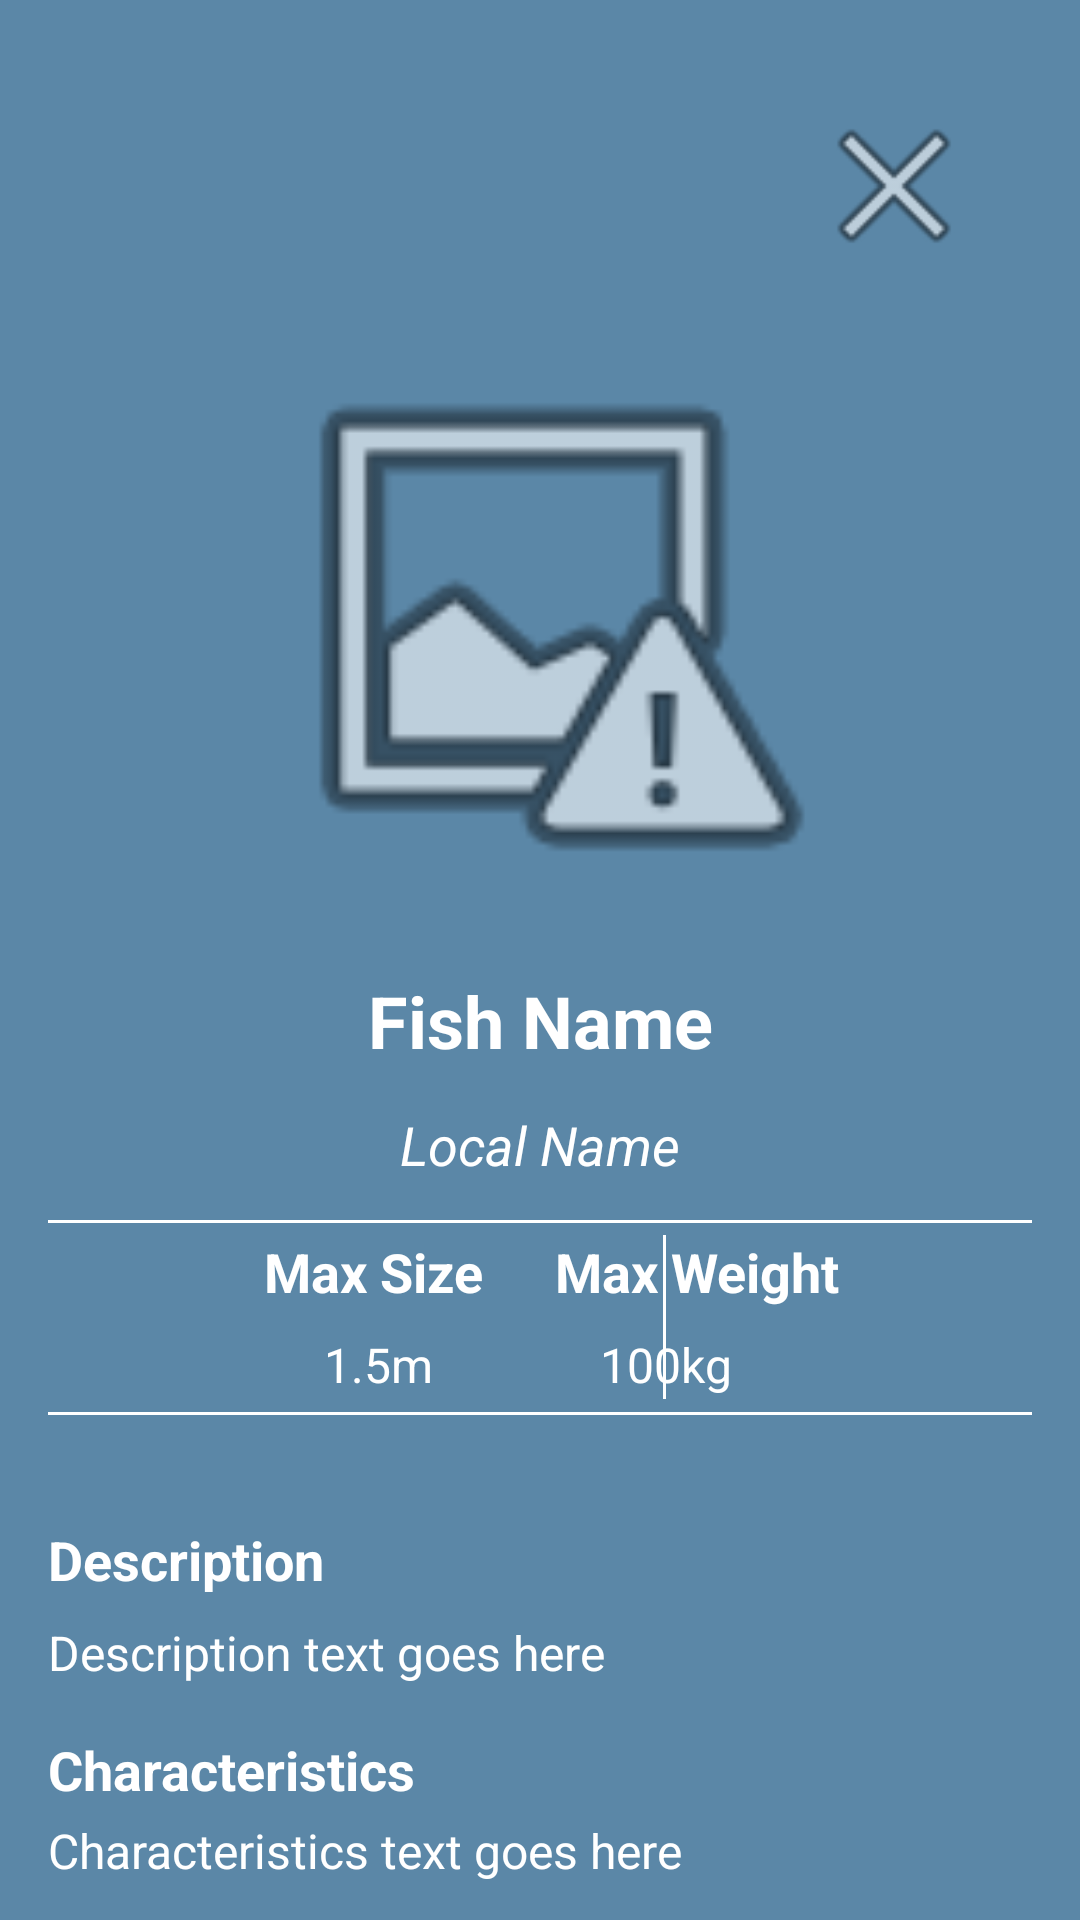

Where icons sit on this 1080×1920 app screen, as (x1, y1, x2, y2):
close clear cancel: (838, 130, 950, 242)
